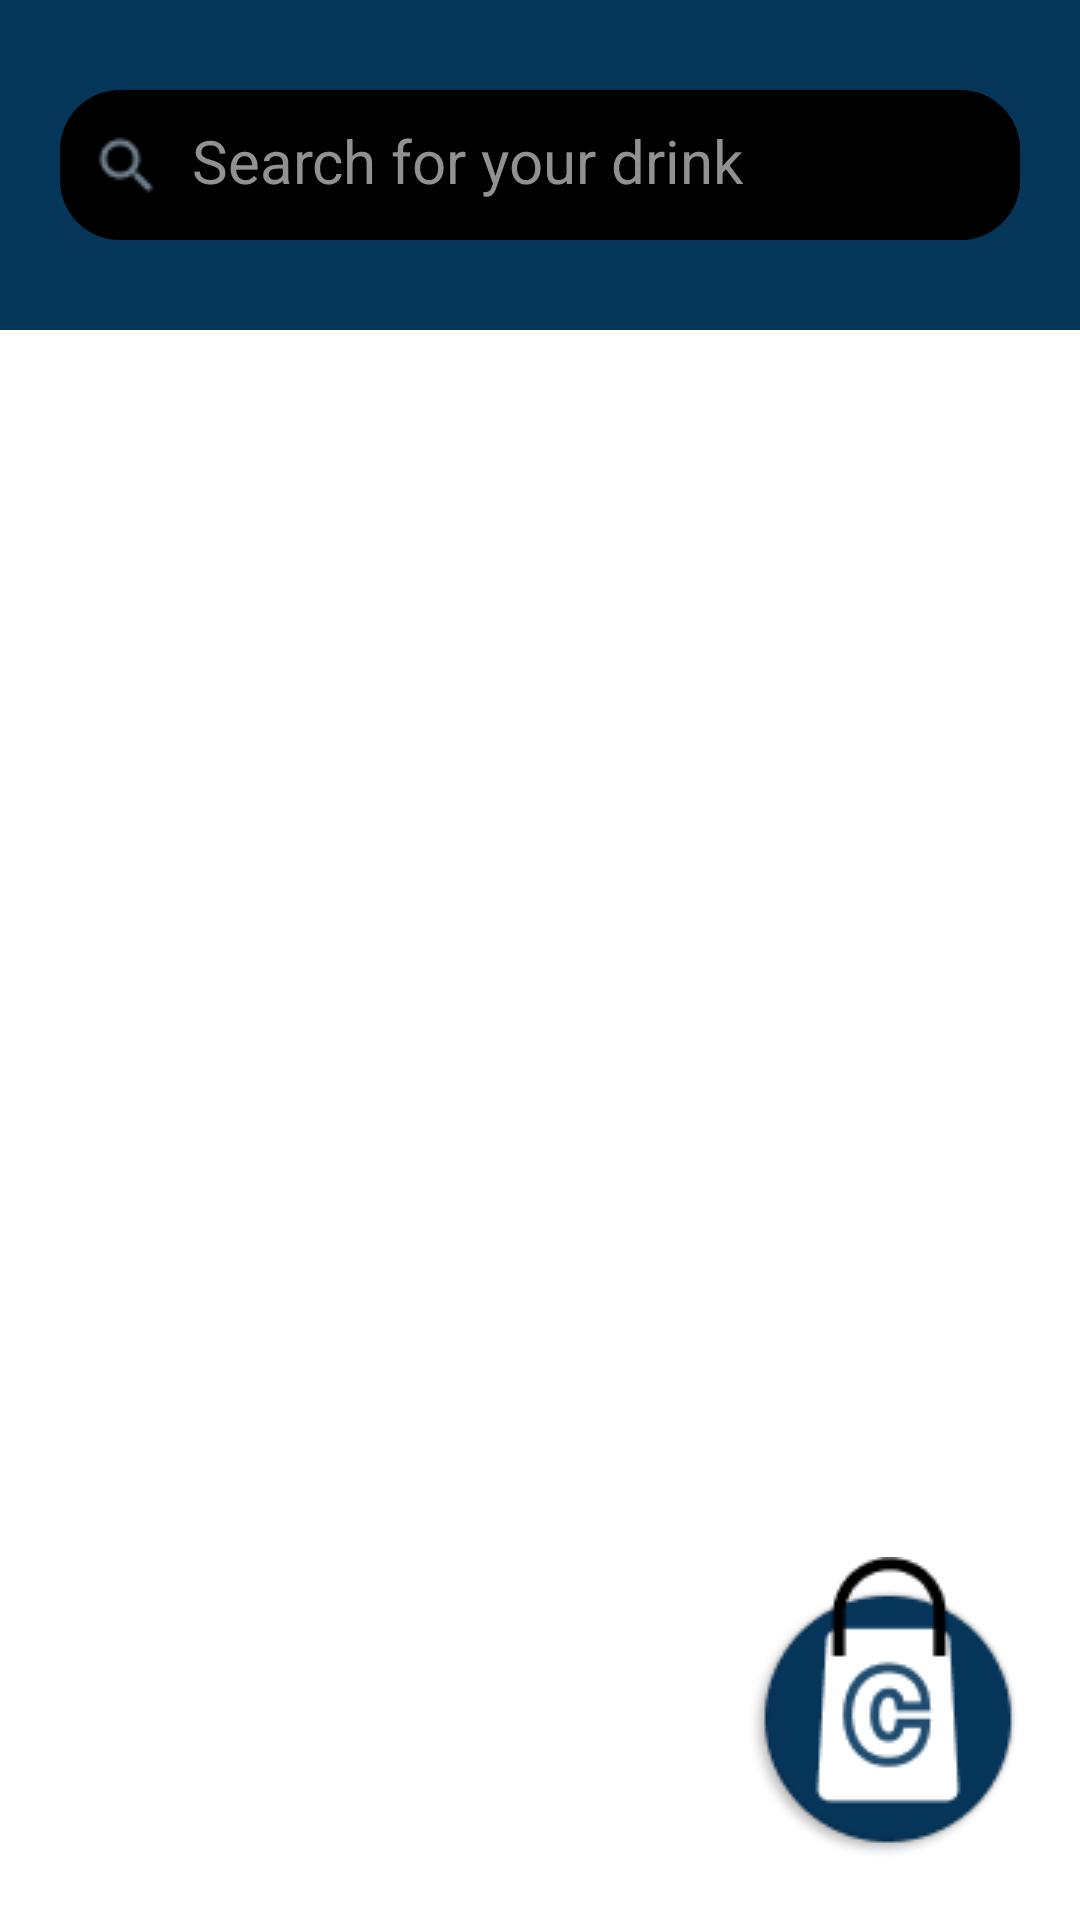

Named icons in this screenshot (1080 x 1920) and their bounding boxes, [x1=x1, y1=y1, x2=x2, y2=y2]:
cart: [x1=758, y1=1557, x2=1014, y2=1849]
